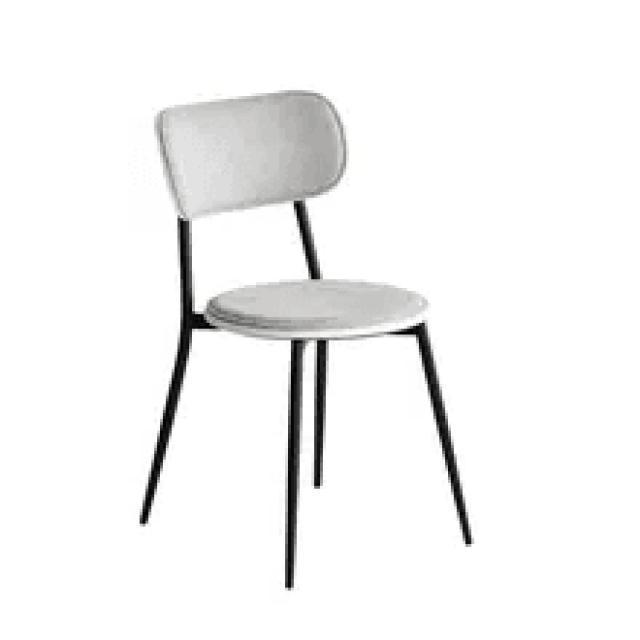chair: (133, 83, 477, 588), (155, 89, 432, 338)
